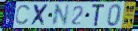0: (107, 4, 123, 28)
2: (70, 5, 85, 26)
C: (14, 4, 32, 27)
N: (50, 3, 71, 27)
T: (91, 3, 107, 28)
X: (30, 4, 51, 27)
